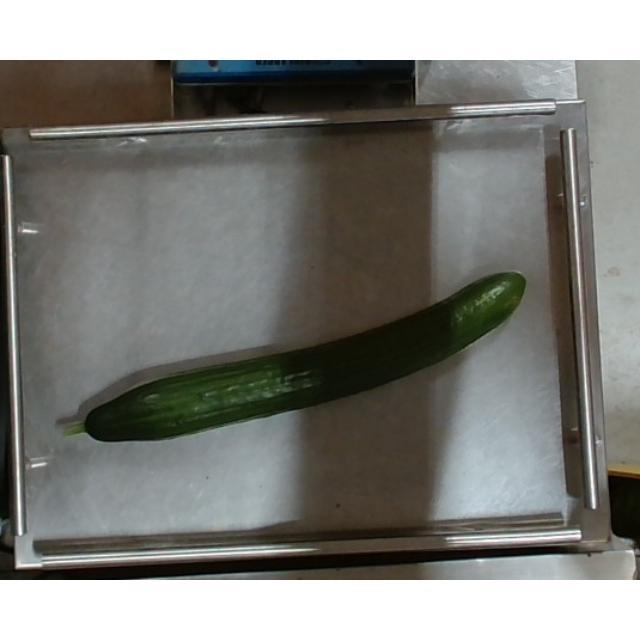cucumber: (62, 264, 540, 442)
